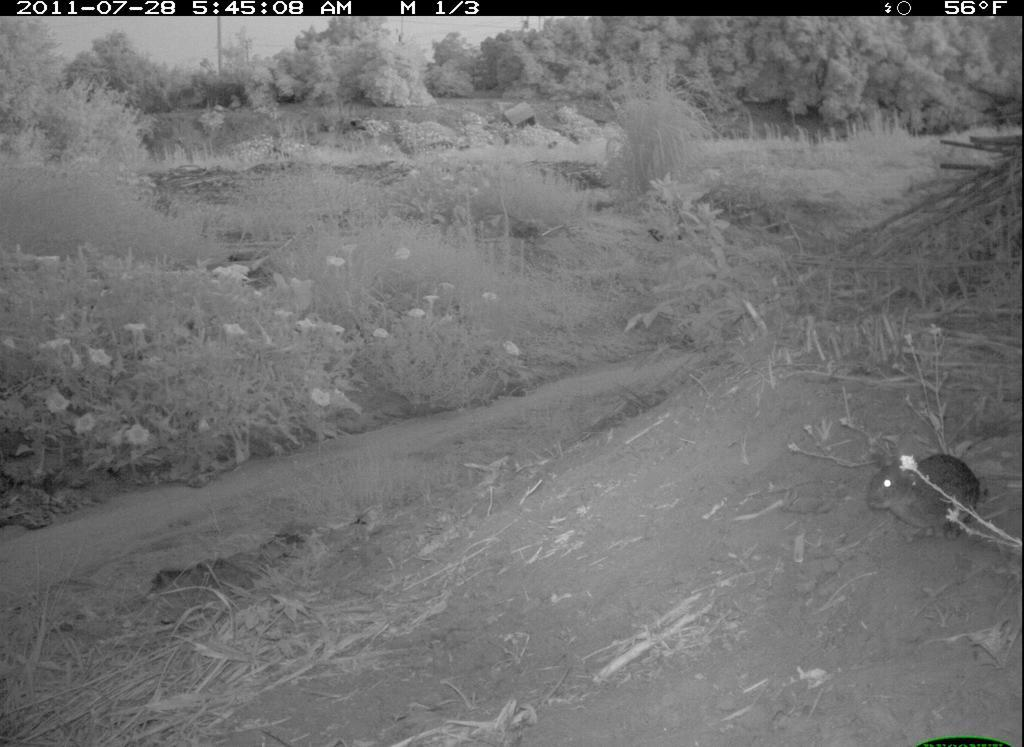rabbit: (856, 445, 995, 545)
